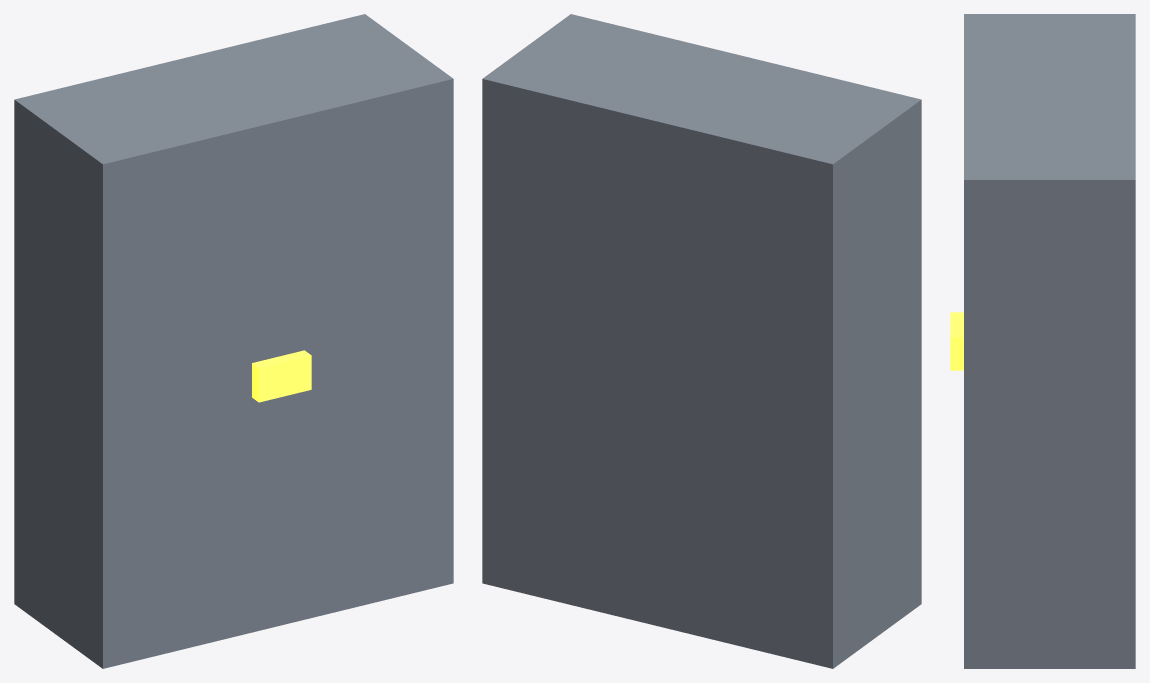
Rendered from prop_power_switchboard.glb.
3 renders of one model, left to right at view 1: azimuth 30°, elevation 25°; view 2: azimuth 150°, elevation 25°; view 3: azimuth 270°, elevation 25°, orthographic. The views are drawn at different scales.
Parts seen in each view (by area): view 1: PowerSwitchboard; view 2: PowerSwitchboard; view 3: PowerSwitchboard.
Boxes of the visible parts, box(x1,y1,x2,y2) form: PowerSwitchboard: box(14, 14, 453, 668); PowerSwitchboard: box(482, 14, 921, 668); PowerSwitchboard: box(950, 14, 1135, 668).
Bounding box in the file's own units: 0.8 × 1.1 × 0.3775.
